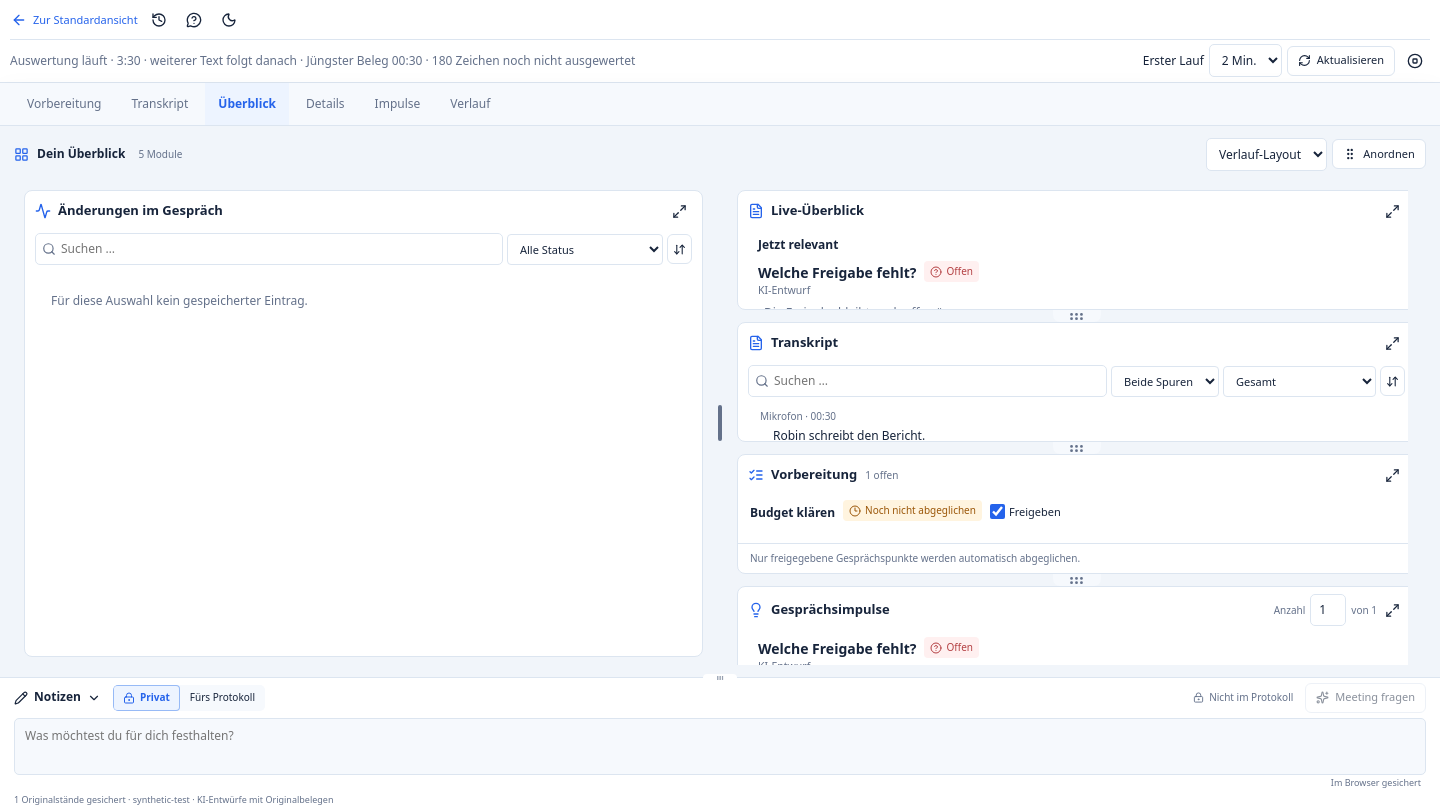
Scenario: can open an earlier unlocked workspace and its history without changing the live run
Later steps or results of the test are not shown.
What coordinates should you click on to do the following:
click the button named "Frühere Auswertungen"
I would click on:
 (159, 20)
Its box is [144, 5, 174, 35].
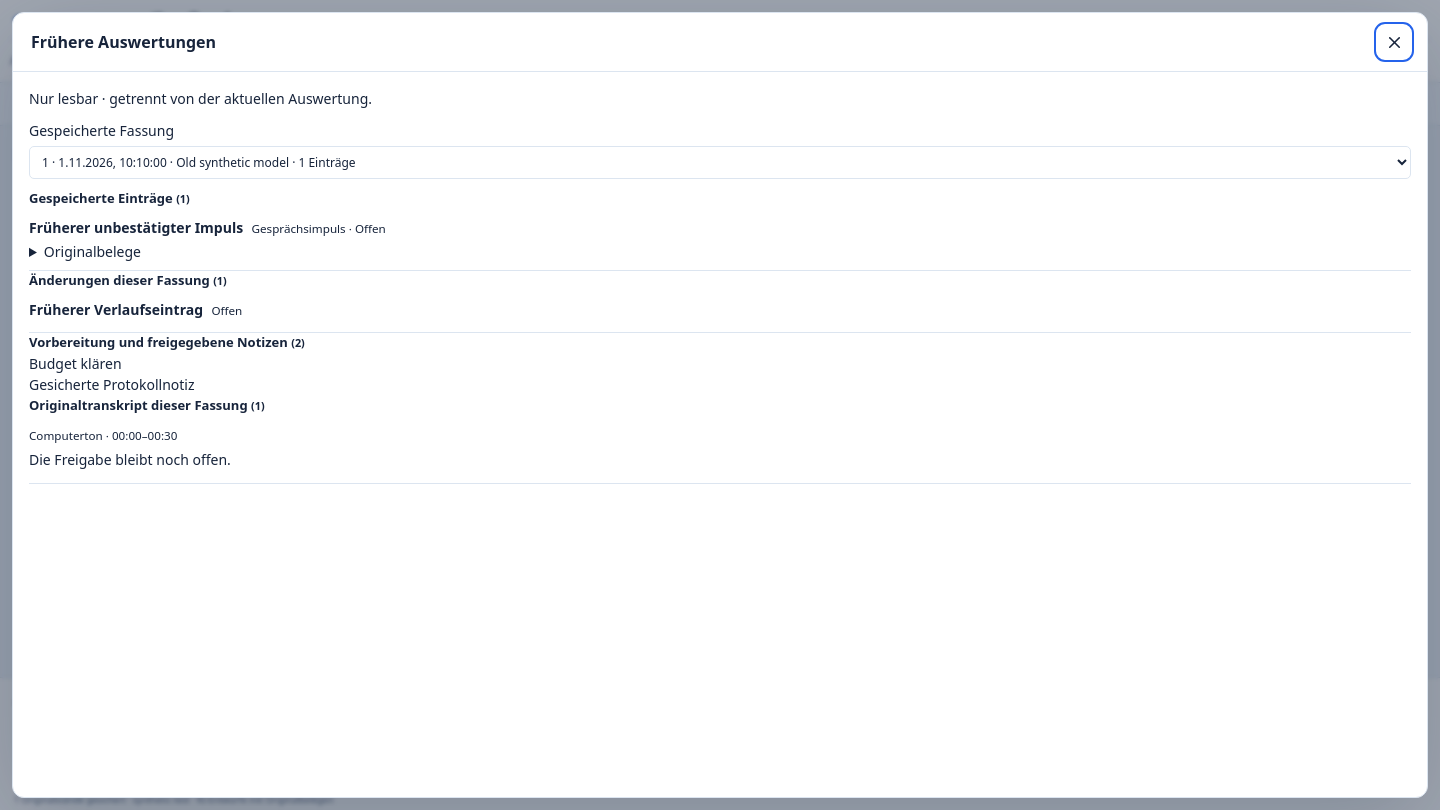
Result: the heading "Früherer unbestätigter Impuls" is shown at [29, 218, 243, 237]
Result: the heading "Früherer Verlaufseintrag Offen" is shown at [29, 300, 242, 319]
